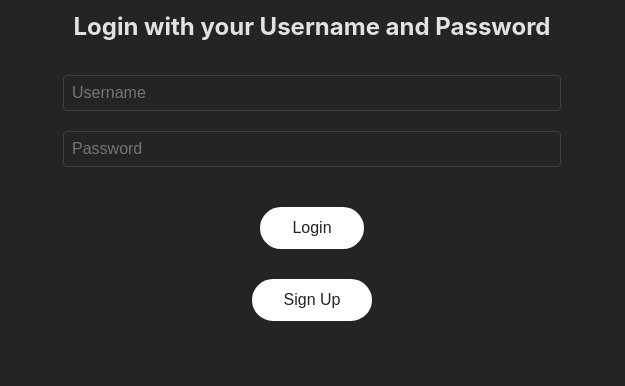
Test: Login Component › displays validation errors
Step 1. Click the button "Login" → point(312, 228), box [260,207,364,249]
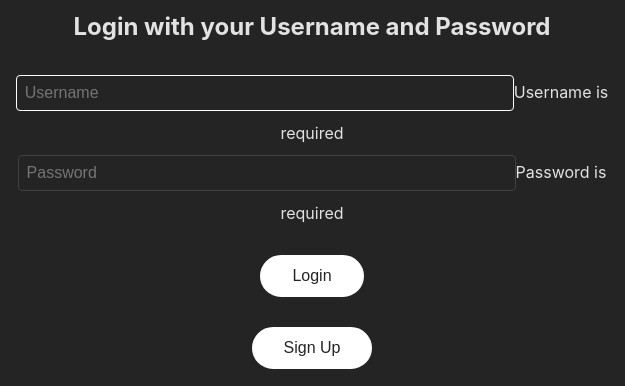
Result: the text "Username is required" is shown at [280,82,608,143]
Result: the text "Password is required" is shown at [280,162,606,223]
